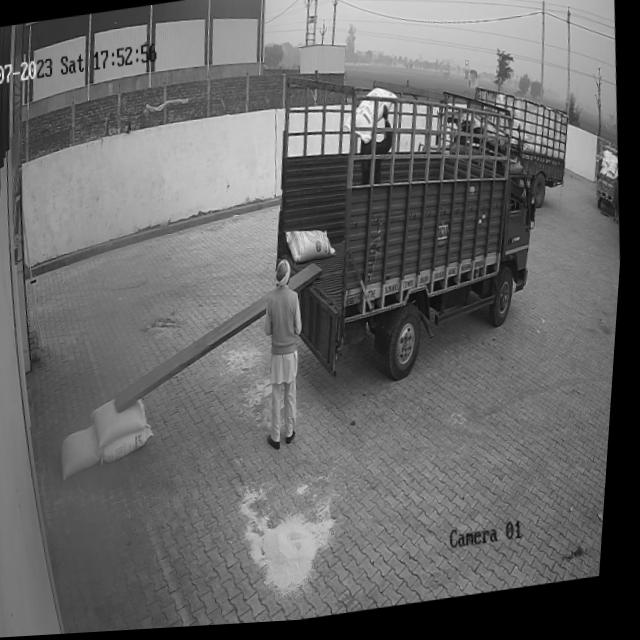sack: (93, 395, 154, 446), (63, 425, 108, 478), (287, 227, 341, 268), (105, 428, 160, 463)
